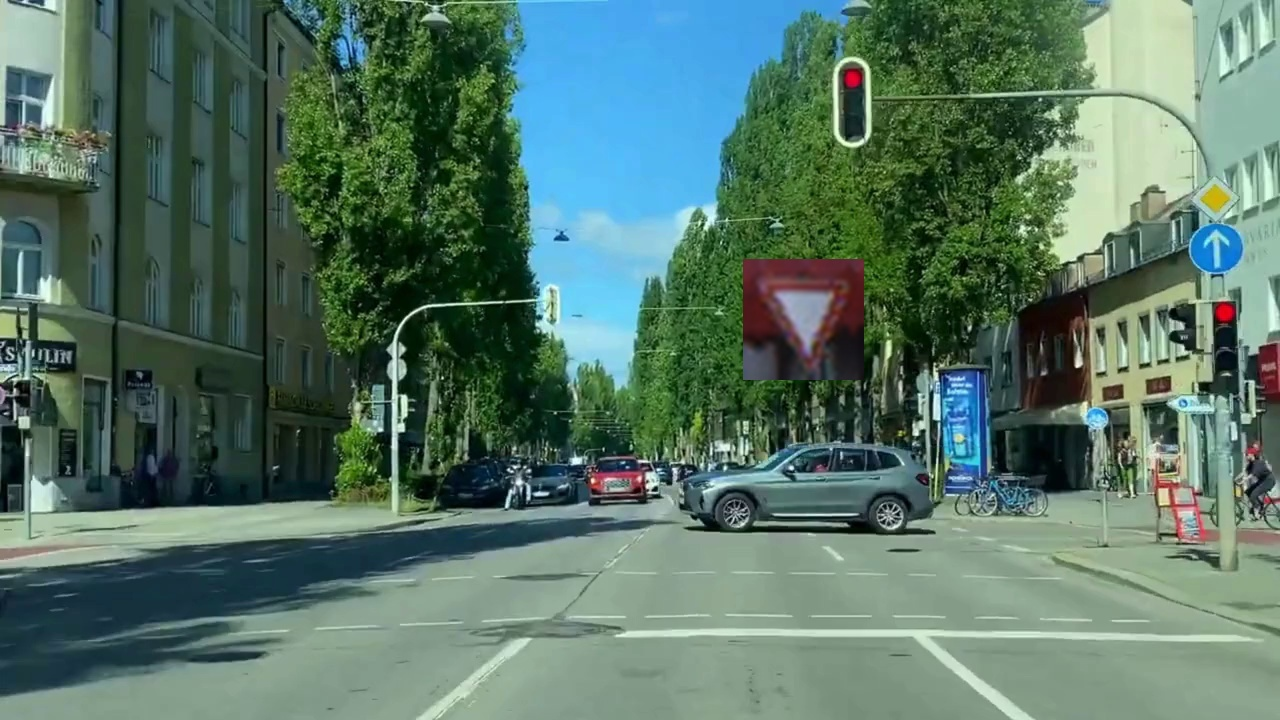Yield: (743, 259, 864, 380)
